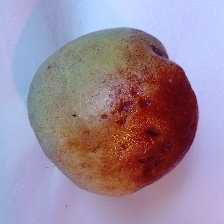guava: (4, 29, 194, 215)
